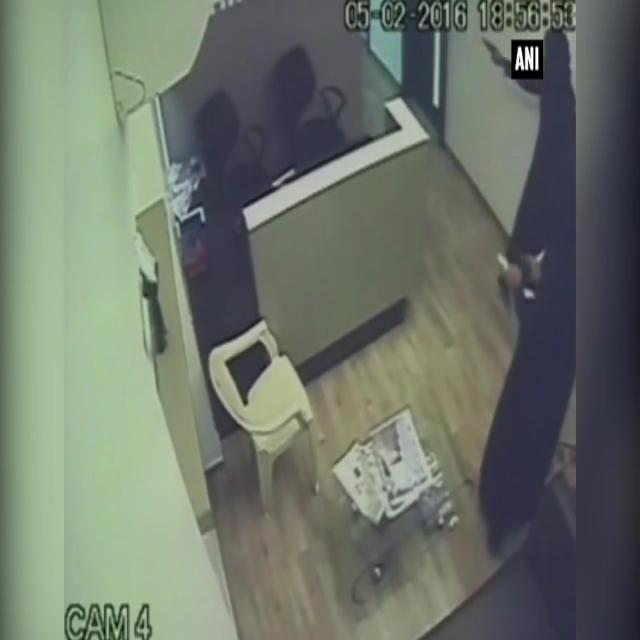Weapon: (502, 238, 548, 292), (483, 28, 507, 76)
